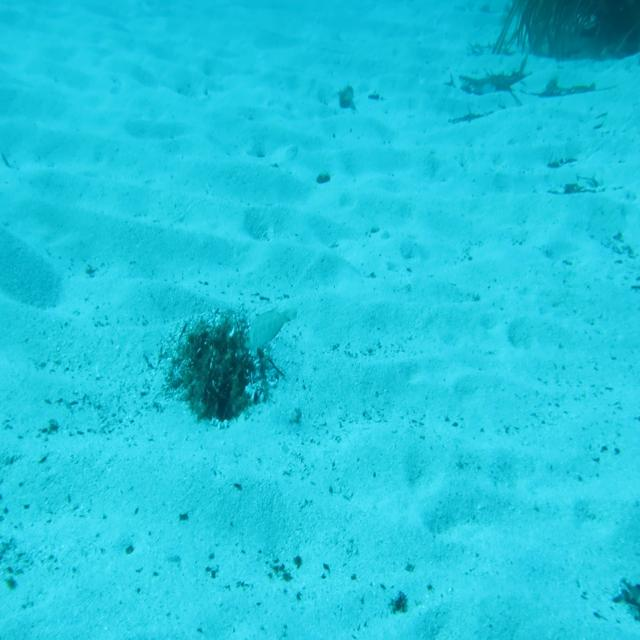LAND: (245, 303, 303, 356)
core_nest: (205, 337, 239, 364)
nest: (165, 302, 278, 438)
